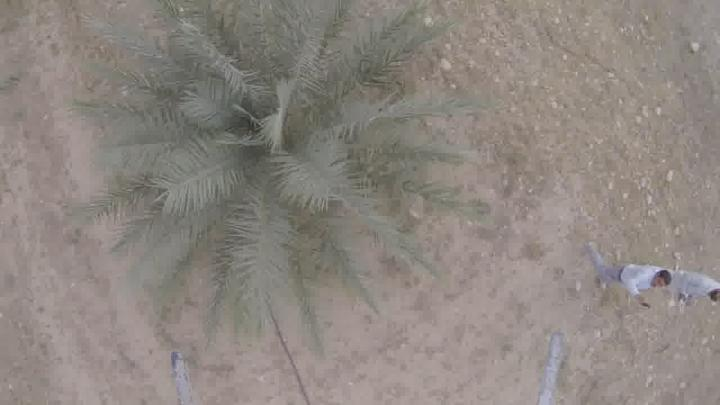Date-Palm-Crown: (143, 38, 381, 268)
